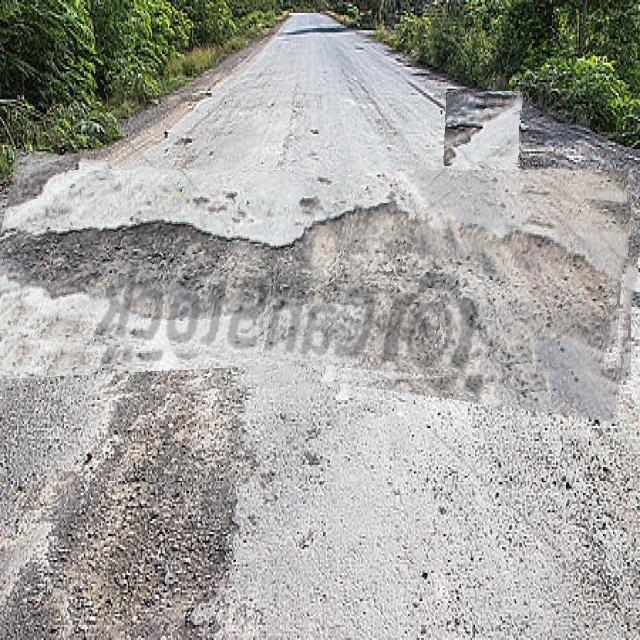Pothole: (0, 170, 636, 401), (444, 91, 522, 168)
